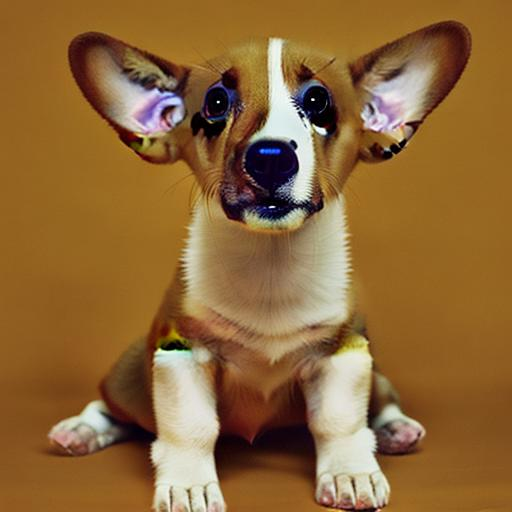eye: (297, 83, 335, 119), (197, 80, 230, 120)
